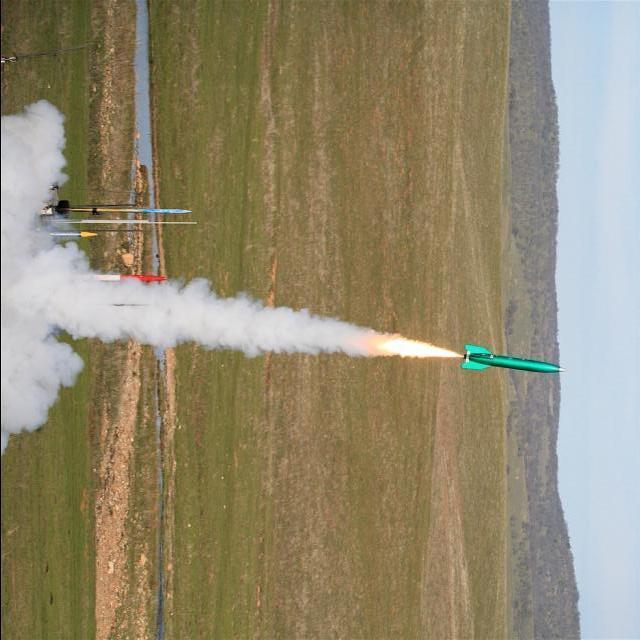missile: (456, 341, 563, 390)
